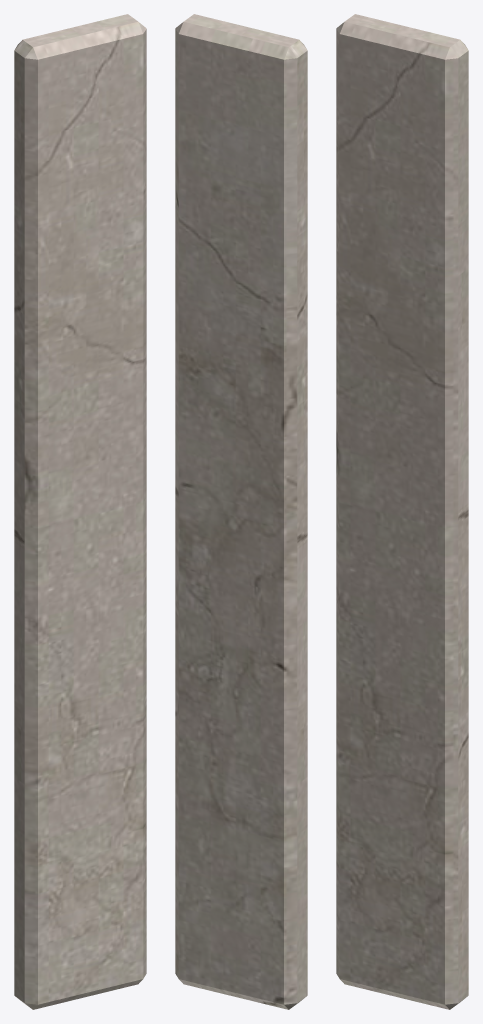
Rendered from pasted__marble_tile_164.fbx.
3 views of the same model, side by side, from view 1: azimuth 30°, elevation 25°; view 2: azimuth 150°, elevation 25°; view 3: azimuth 330°, elevation 25° (orthographic).
Parts seen in each view (by area): view 1: pasted__marble_tile_164; view 2: pasted__marble_tile_164; view 3: pasted__marble_tile_164.
Boxes of the visible parts, x1=… form: pasted__marble_tile_164: x1=14, y1=14, x2=146, y2=1009; pasted__marble_tile_164: x1=175, y1=14, x2=307, y2=1009; pasted__marble_tile_164: x1=336, y1=14, x2=468, y2=1009.
Size of the model in its own units: 23.51 by 6.74 by 177.
